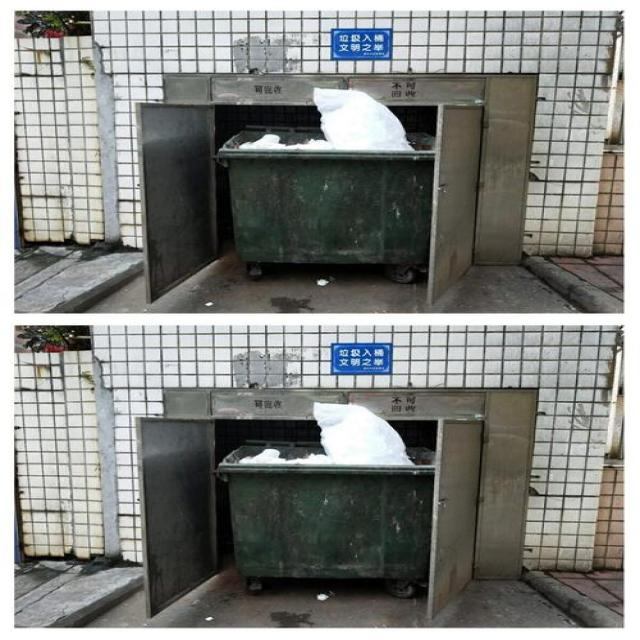overflow: (219, 401, 434, 580), (216, 86, 430, 265)
